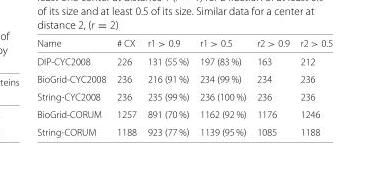table: (36, 36, 332, 137)
table column: (36, 36, 110, 137), (193, 36, 250, 137), (141, 36, 193, 137), (250, 36, 294, 137), (294, 36, 332, 137), (110, 36, 141, 137)
table column header: (36, 36, 332, 51)
table row: (36, 51, 332, 69), (36, 69, 332, 87), (36, 87, 332, 105), (36, 105, 332, 122), (36, 36, 332, 51), (36, 122, 332, 137)
